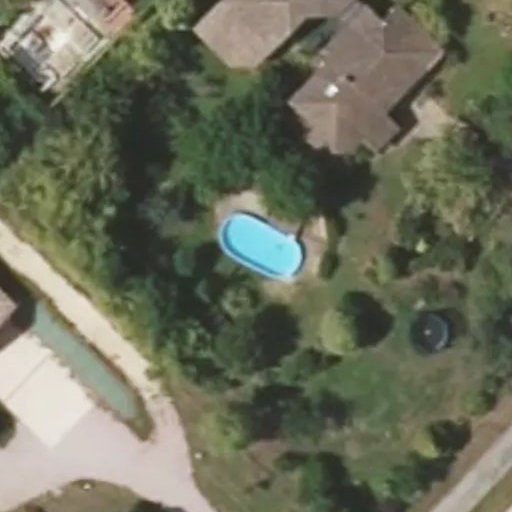pool: (209, 240, 301, 243)
